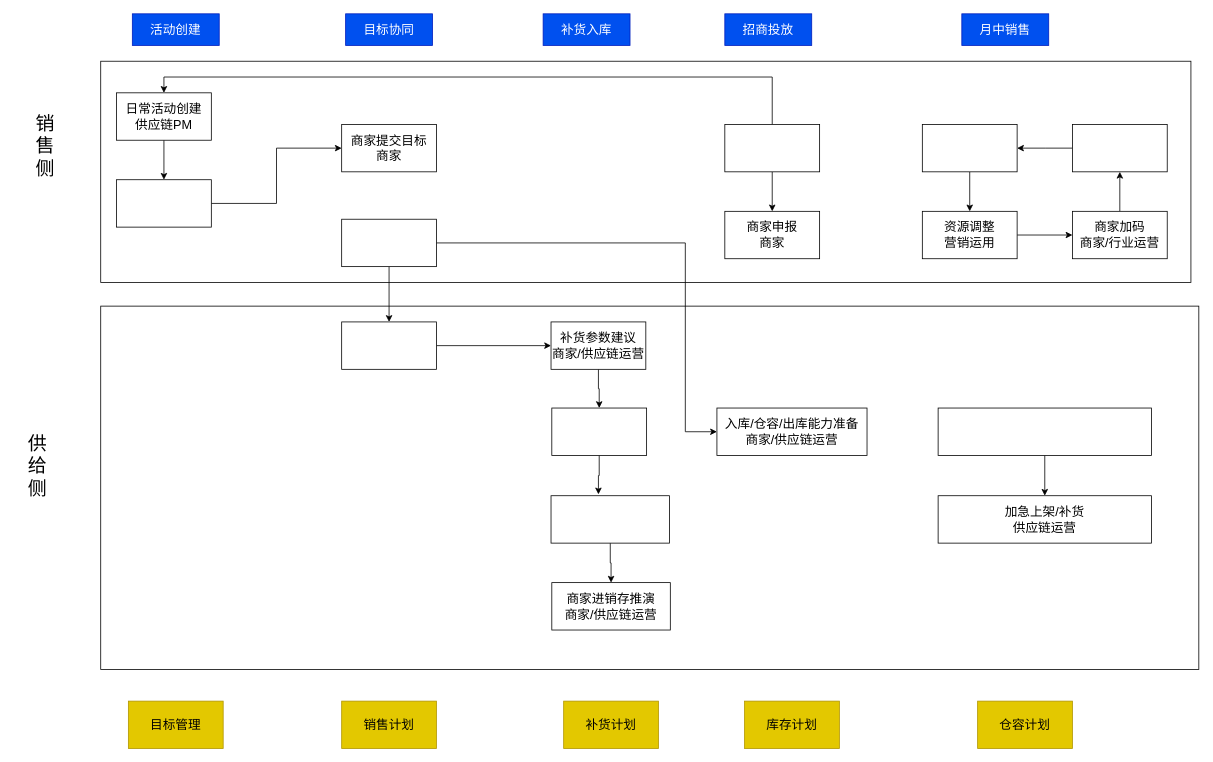
This 1213x762 diagram has some shape labels left out. The centre of each missing label's shape, as x and y in pixels:
会场调优 营销运营: point 1119,148
供应链参数确认 商家/供应链运营: point 388,345
商家报名 商家: point 772,148
商家目标沟通 行业运营: point 388,242
库存预估(行业、商家、货品、商品) 供应链运营: point 1044,431
数据跟踪 行业运营: point 969,148
补货参数确认 商家/供应链运营: point 599,431
计划内参数自动审核 商家/供应链运营: point 610,519
销量预测 供应链PM: point 163,203
